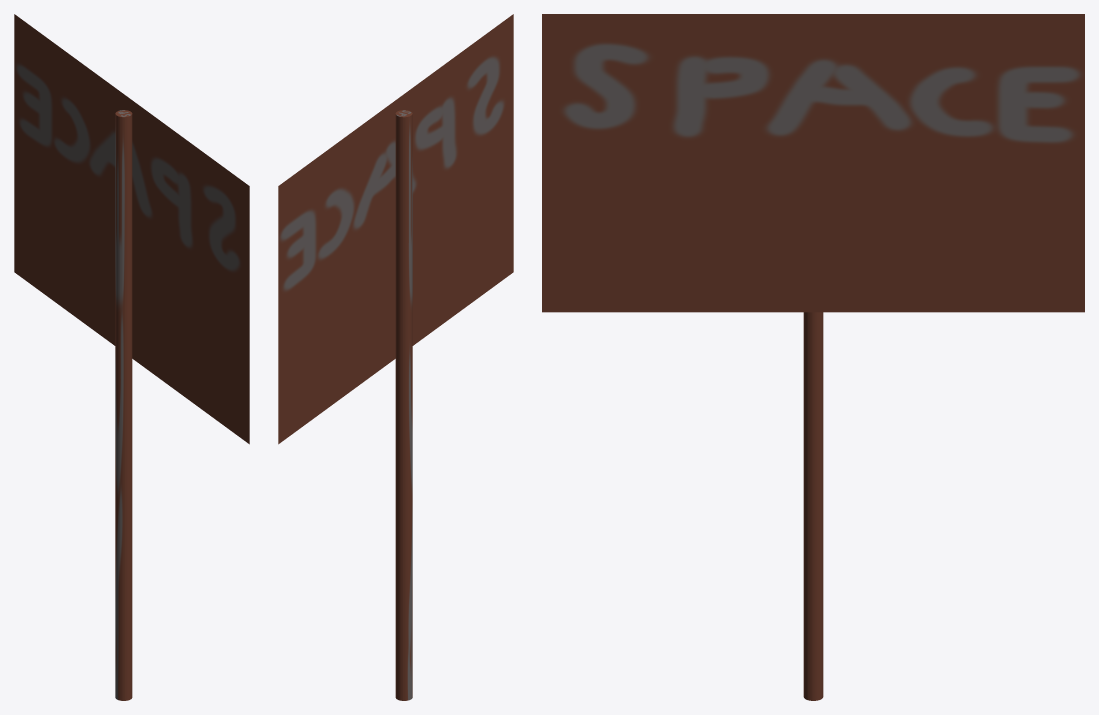
Rendered from TitleSign.gltf.
The picture shows the model from 3 angles, left to right: view 1: azimuth 30°, elevation 25°; view 2: azimuth 150°, elevation 25°; view 3: azimuth 270°, elevation 25°; orthographic projection. The views are drawn at different scales.
Visible parts, largest first — view 1: 平面; view 2: 平面; view 3: 平面.
Part boxes in pixels (box(x1,y1,x2,y2)): 平面: box(14, 14, 249, 700); 平面: box(278, 14, 513, 700); 平面: box(542, 14, 1084, 700).
Bounding box in the file's own units: 0.0413 × 1.52 × 1.09.
1 material, 1 textured.
